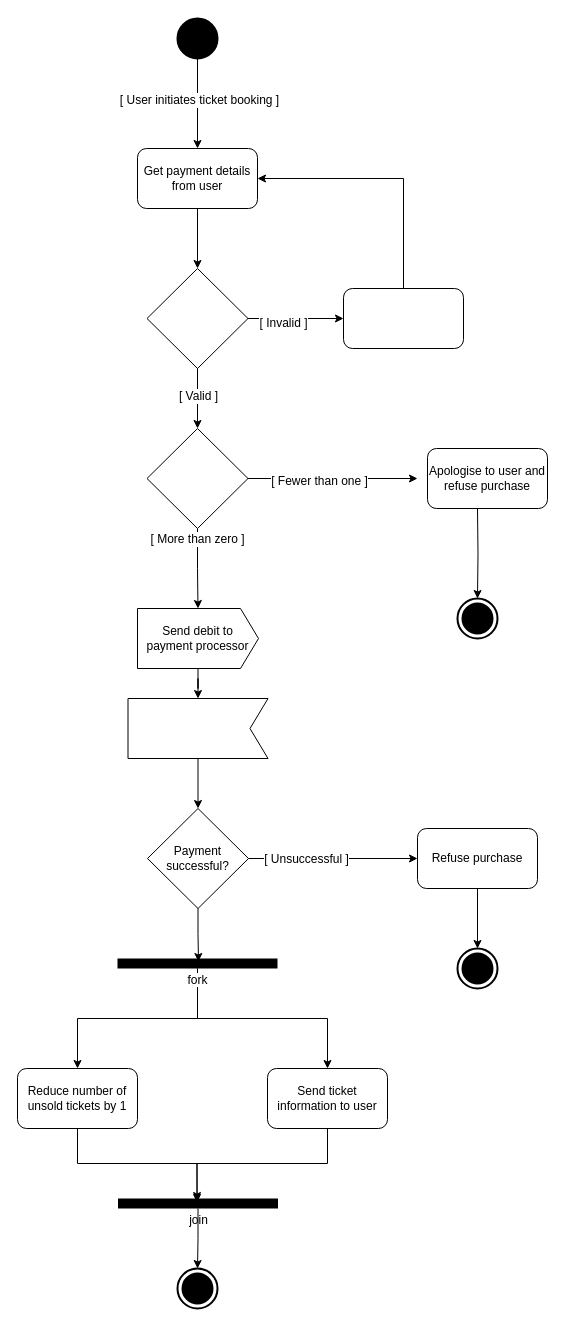
The diagram is 565 pixels wide and 1326 high, and some of its shapes have lost their labels. The shapes that lost their labels are listed below. From the top down, each one's centre as x and y in pixels, then its label:
the point at 197,318: Payment details valid?
the point at 403,318: Report error to user
the point at 197,478: More than zero tickets unsold?
the point at 197,728: Receive response from payment processor
